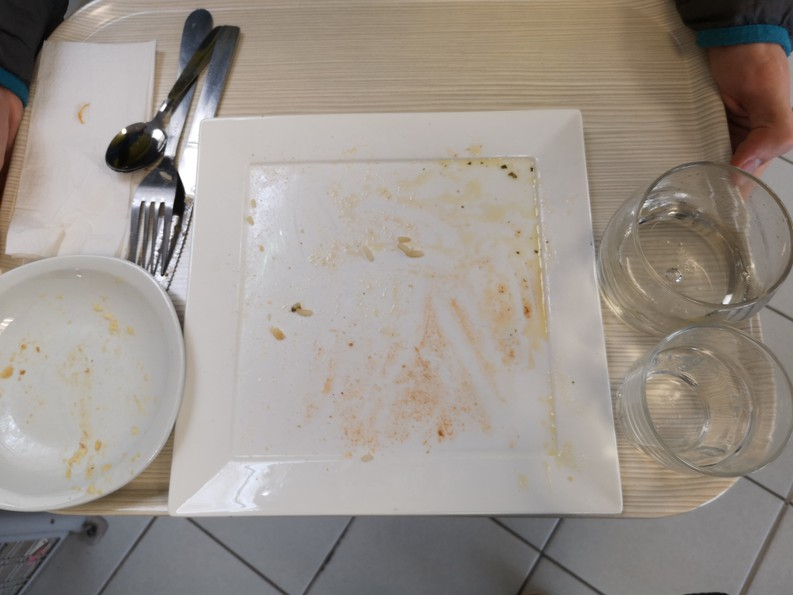cup: (631, 313, 792, 501)
cutlery: (113, 2, 247, 296)
trash: (5, 32, 115, 256)
